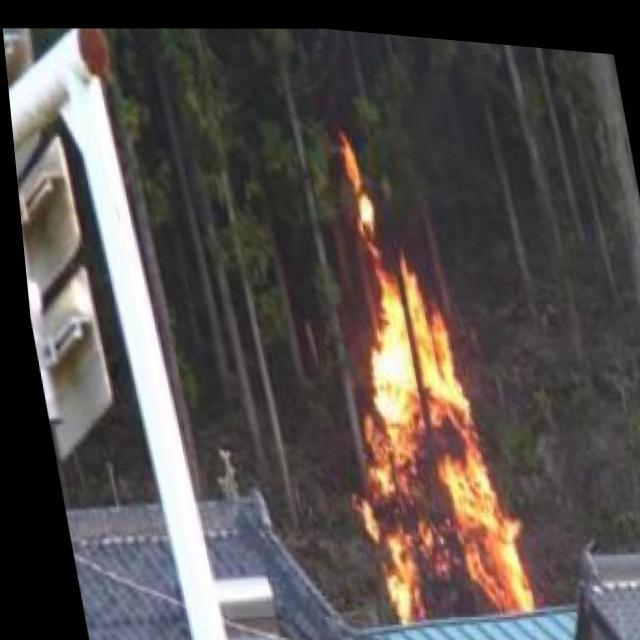Fire: (284, 115, 527, 630)
